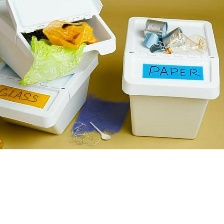bottle: (163, 29, 211, 55)
can: (141, 16, 169, 41)
plastic_bag: (17, 32, 86, 89), (38, 16, 100, 50)
